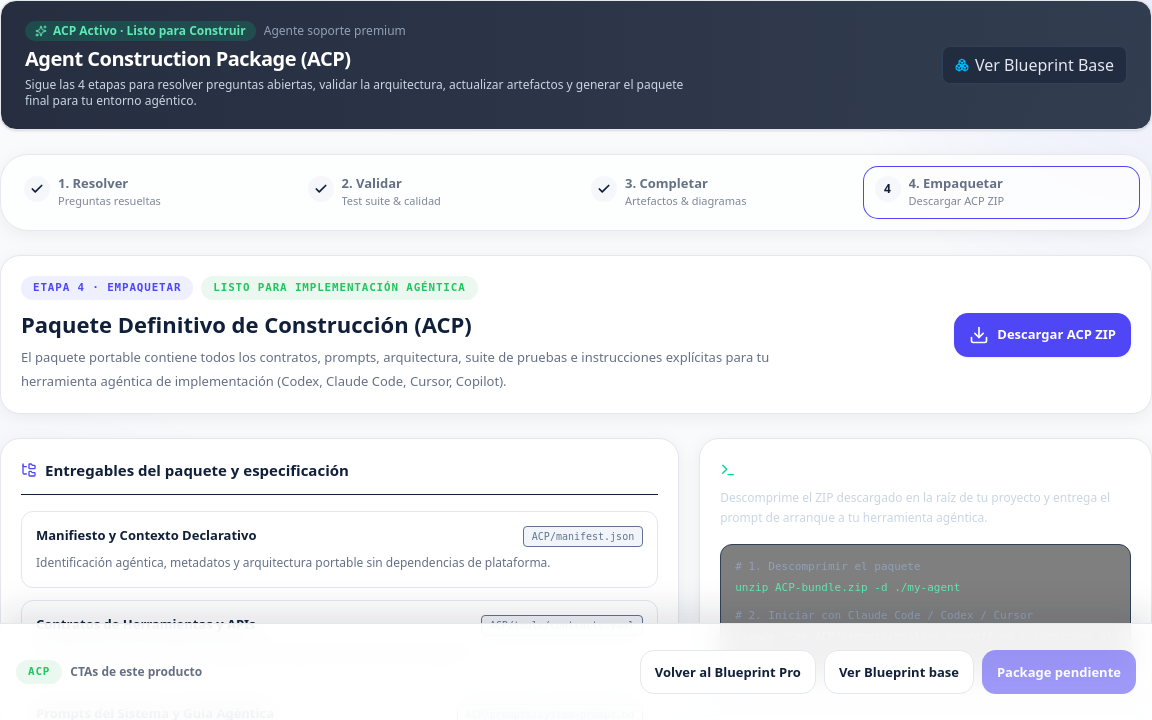
Test case: UXA11 SaaS product views › explains ACP ZIP preparation while package phases are running
The width and height of the screenshot is (1152, 720).
Click the button "Descargar ACP ZIP".
click(1043, 335)  # box [954, 313, 1131, 357]
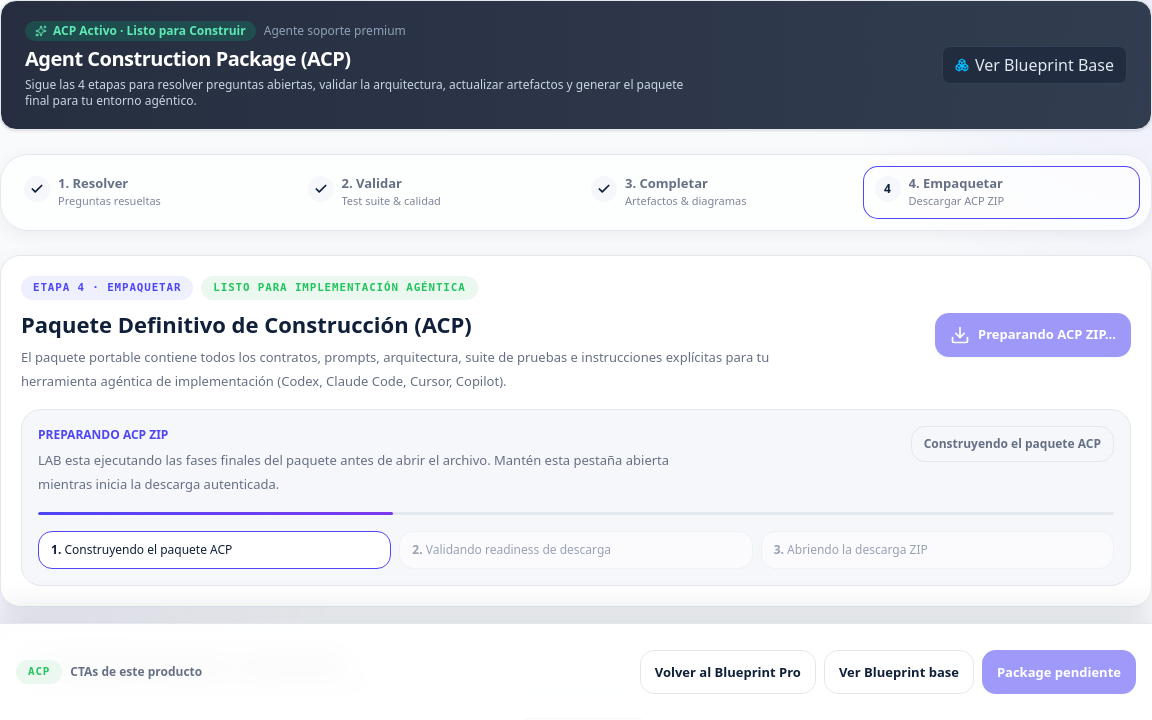
Now the text "Preparando ACP ZIP" is shown, box [38, 426, 168, 443]
Now the text "LAB esta ejecutando las fases finales del paquete" is shown, box [38, 451, 669, 493]
Now the text "Construyendo el paquete ACP" is shown, box [911, 426, 1114, 462]
